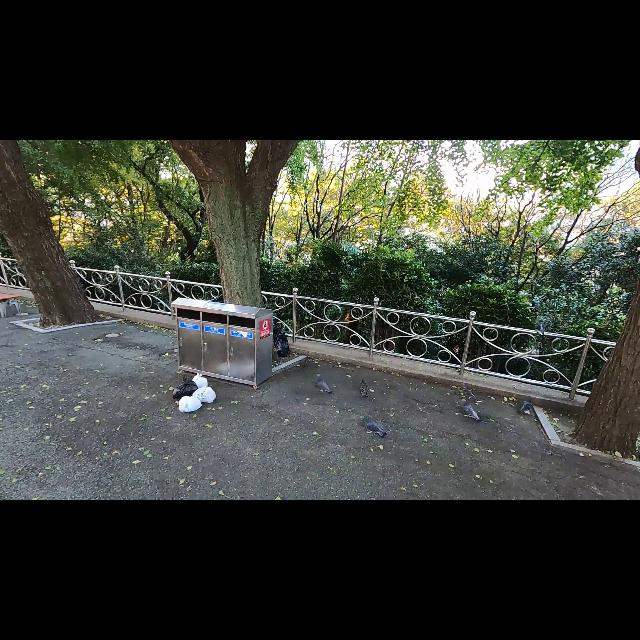trash: (274, 320, 292, 358), (175, 391, 203, 415), (172, 375, 198, 399), (192, 382, 218, 404), (191, 372, 211, 388)
